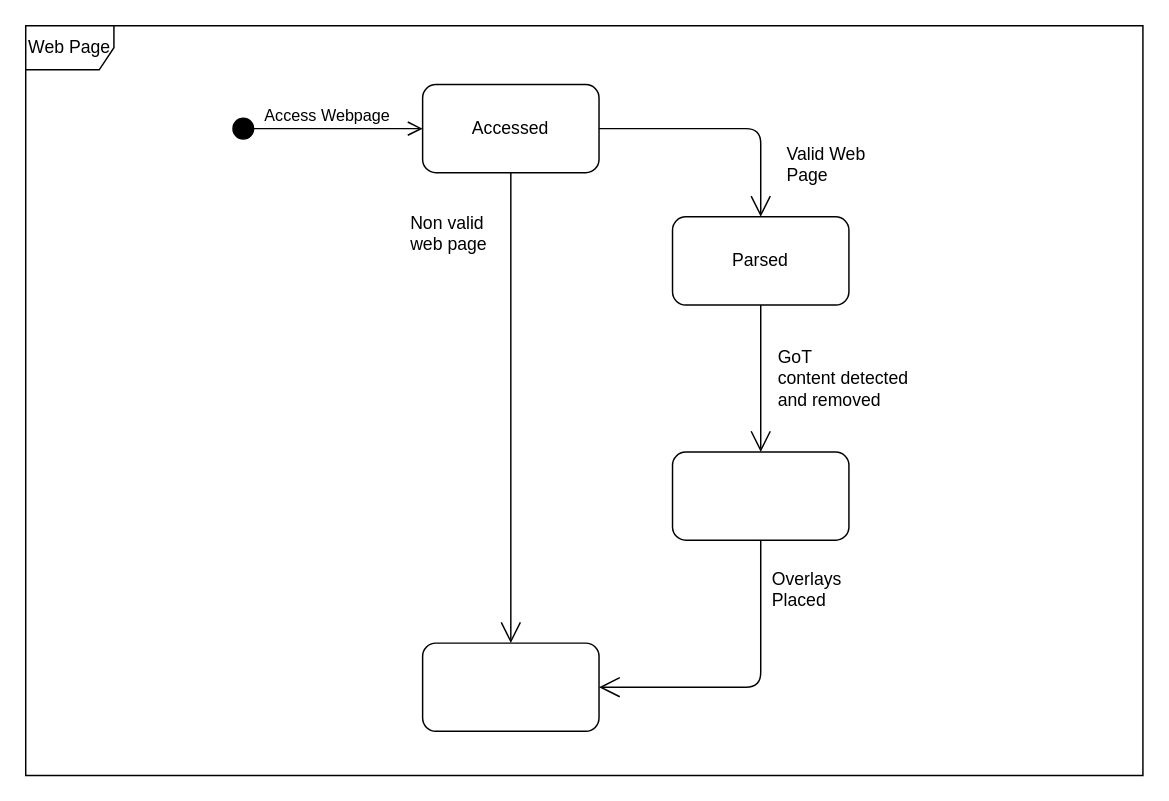
The diagram is 1169 pixels wide and 801 high, and some of its shapes have lost their labels. Each missing label, with the centre of its shape:
Loaded: [760,495]
Spoiler Free: [510,686]
